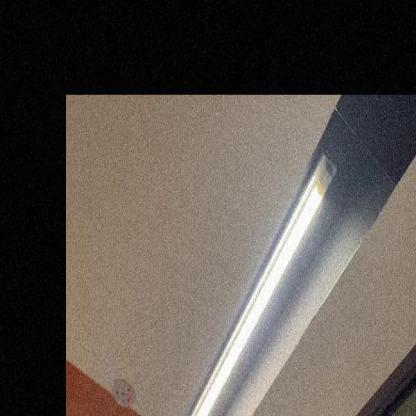light_on: (164, 140, 339, 415)
